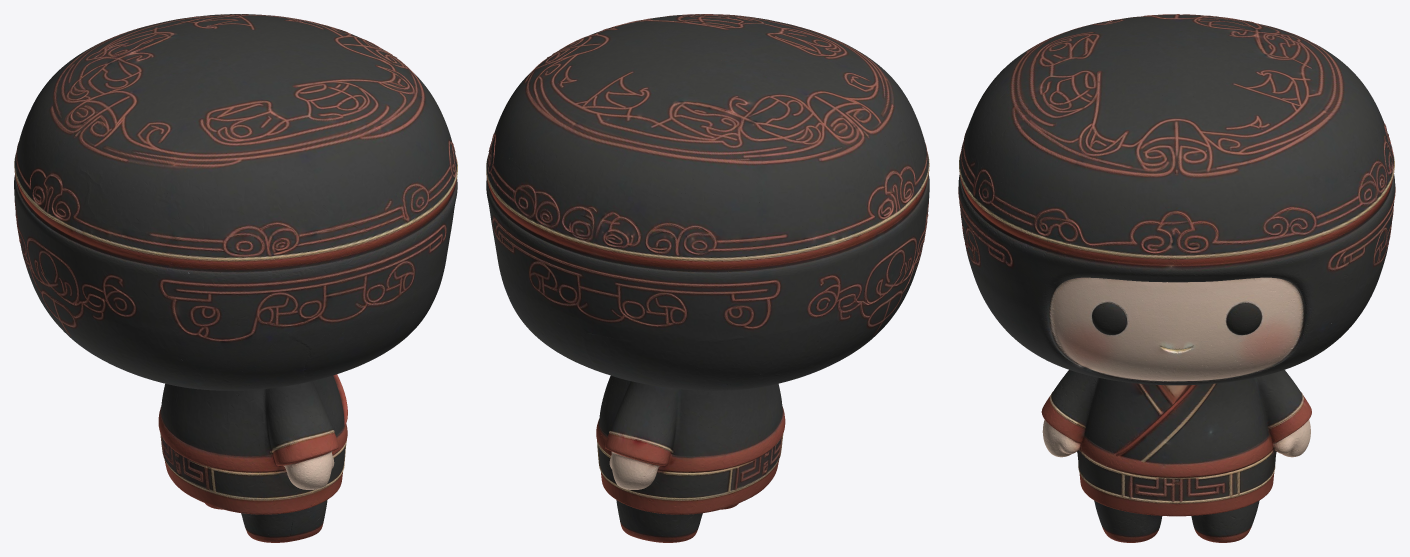
The picture shows the model from 3 angles, left to right: view 1: azimuth 30°, elevation 25°; view 2: azimuth 150°, elevation 25°; view 3: azimuth 270°, elevation 25°; orthographic projection.
Visible parts, largest first — view 1: tripo_node_1cef0fe3-b004-4567-b107-f84d6287aff4; view 2: tripo_node_1cef0fe3-b004-4567-b107-f84d6287aff4; view 3: tripo_node_1cef0fe3-b004-4567-b107-f84d6287aff4.
Part boxes in pixels (x1,y1,x2,y2): tripo_node_1cef0fe3-b004-4567-b107-f84d6287aff4: (14, 14, 457, 542); tripo_node_1cef0fe3-b004-4567-b107-f84d6287aff4: (486, 14, 929, 542); tripo_node_1cef0fe3-b004-4567-b107-f84d6287aff4: (958, 14, 1395, 542).
Bounding box in the file's own units: 0.8577 × 1 × 0.8596.
Materials: 1 (1 with a texture image).
